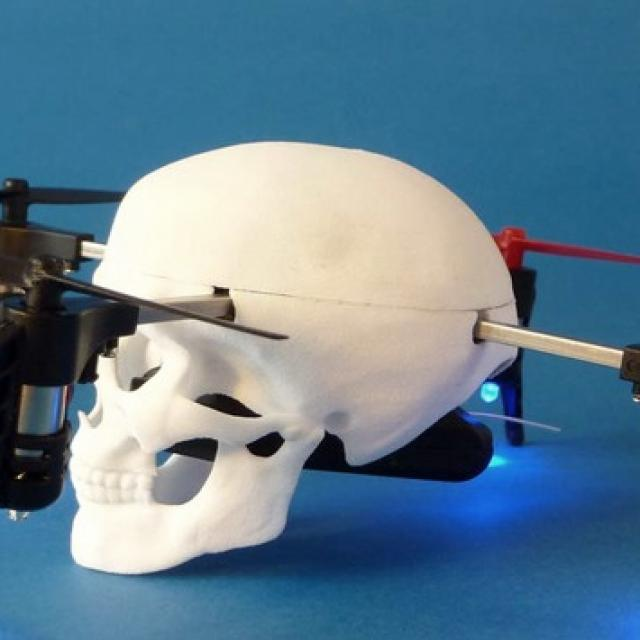drone: (0, 138, 640, 640)
